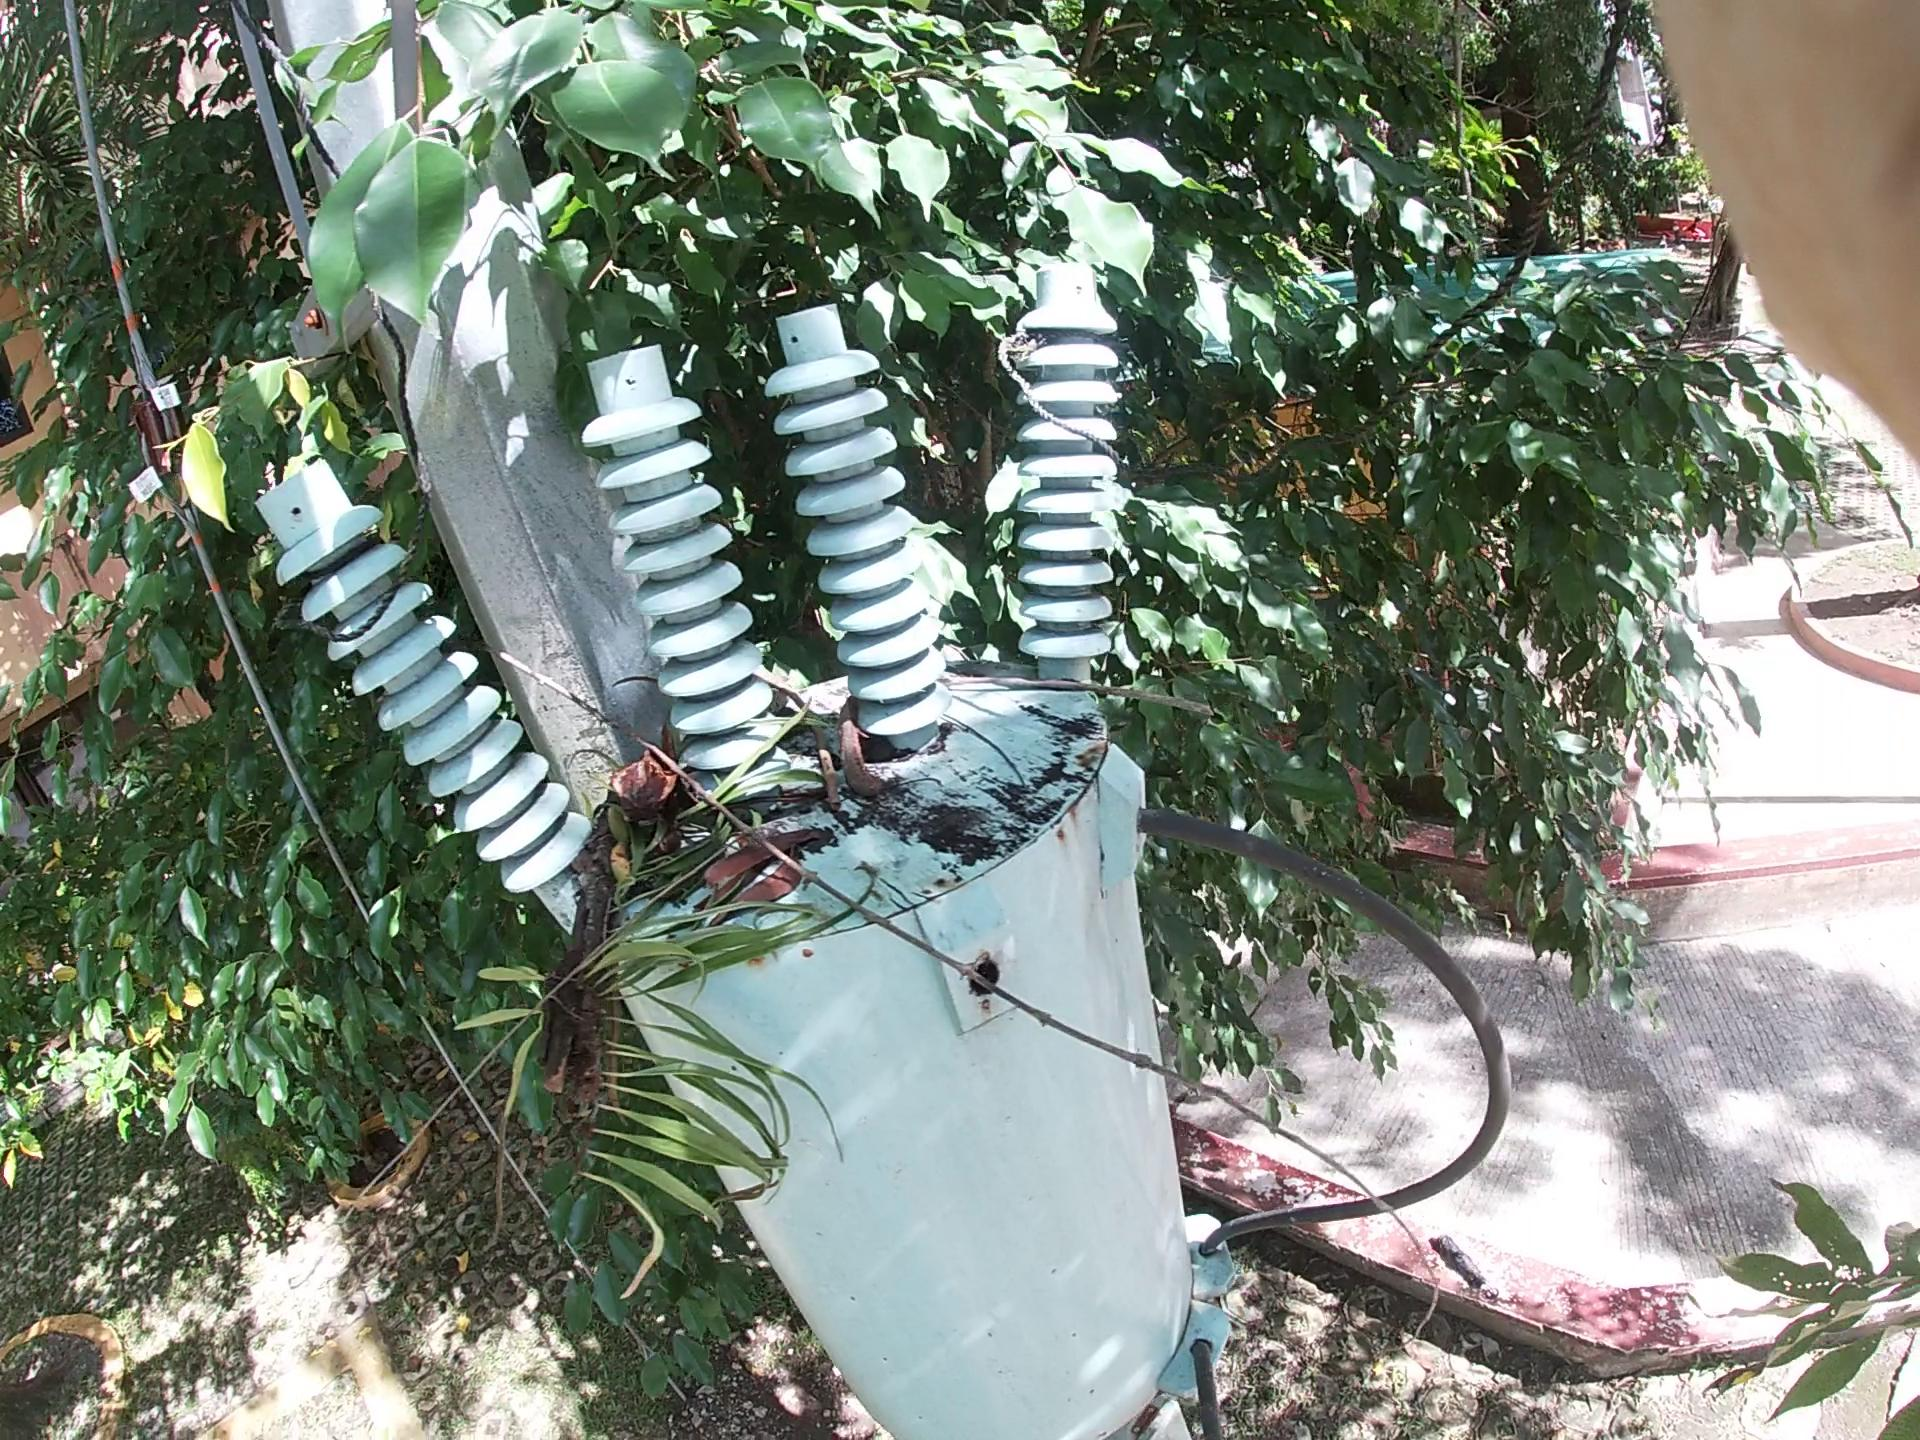branch with leaves: (339, 711, 757, 1153)
leaf: (671, 858, 859, 951)
mahogany fruit: (819, 675, 919, 830), (596, 726, 679, 815)
tree branch: (508, 646, 1394, 1195), (839, 607, 1374, 694), (741, 650, 874, 871)
